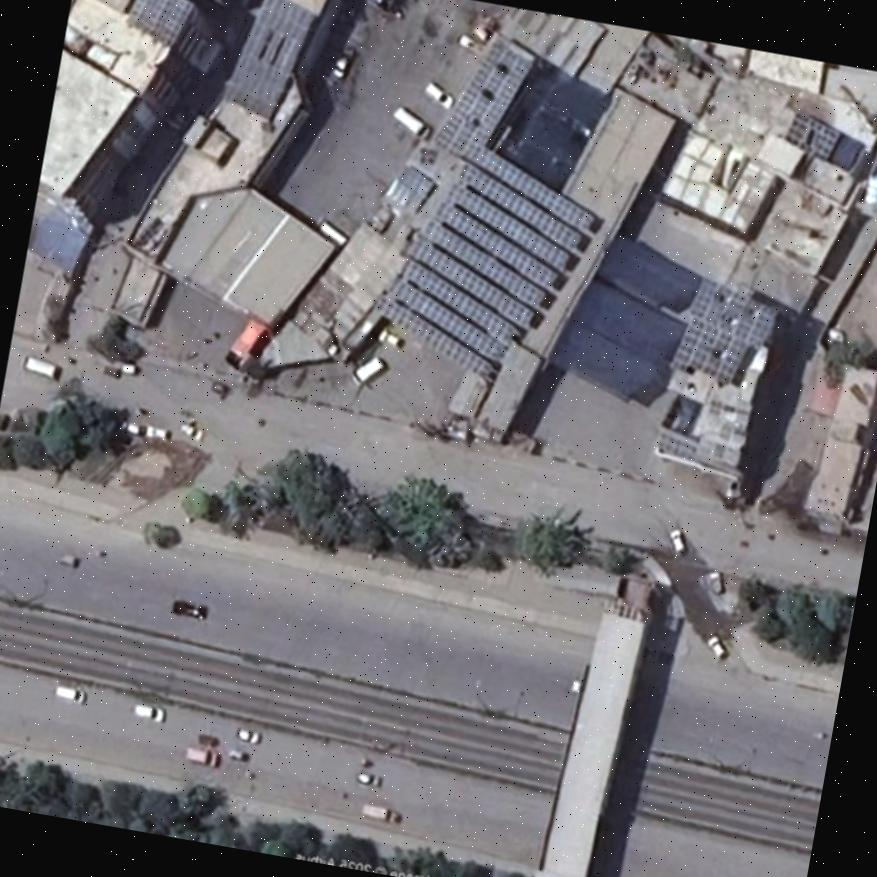Solarpanel: (436, 37, 532, 162), (674, 276, 777, 389), (406, 237, 534, 327), (421, 221, 549, 308), (471, 140, 594, 228), (460, 160, 583, 248), (444, 181, 568, 268), (399, 257, 518, 345), (226, 0, 315, 116), (437, 203, 556, 288), (375, 294, 495, 377), (386, 277, 502, 362), (128, 0, 191, 46), (786, 112, 839, 158), (860, 176, 877, 205)
